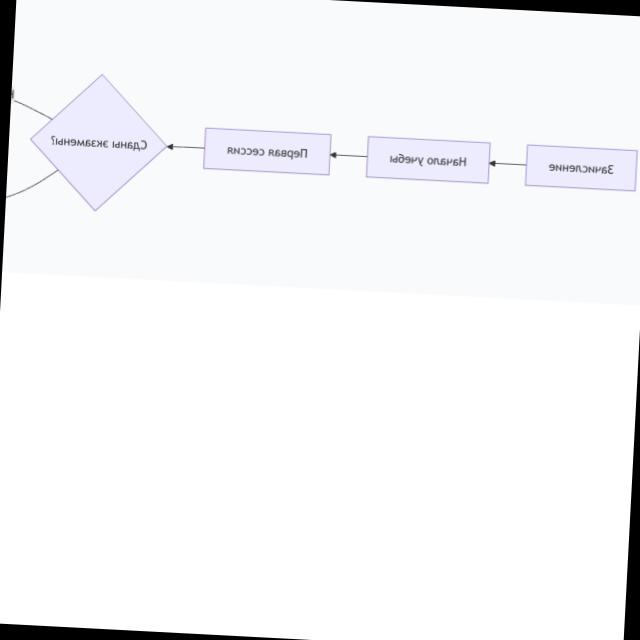arrow: (489, 158, 527, 170), (167, 142, 205, 153), (329, 150, 366, 160)
diamond: (31, 76, 164, 210)
rectangle: (203, 128, 330, 174), (366, 136, 489, 183), (524, 145, 636, 190)
